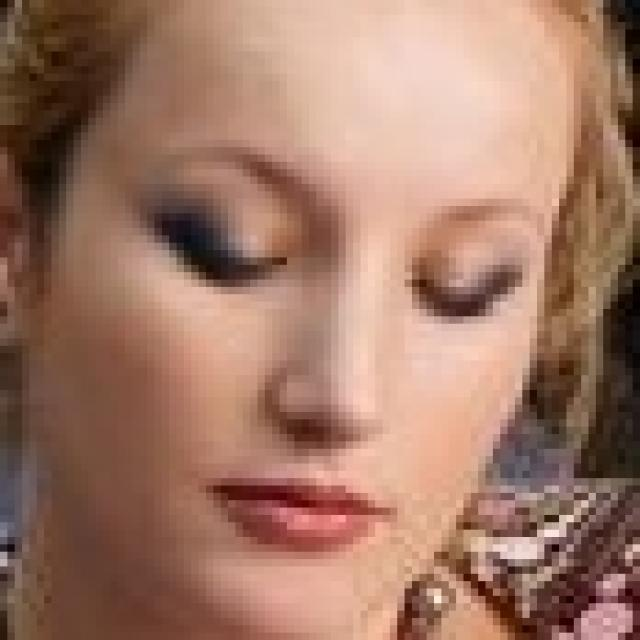Eyeclosed: (171, 219, 286, 299), (406, 257, 504, 325)
